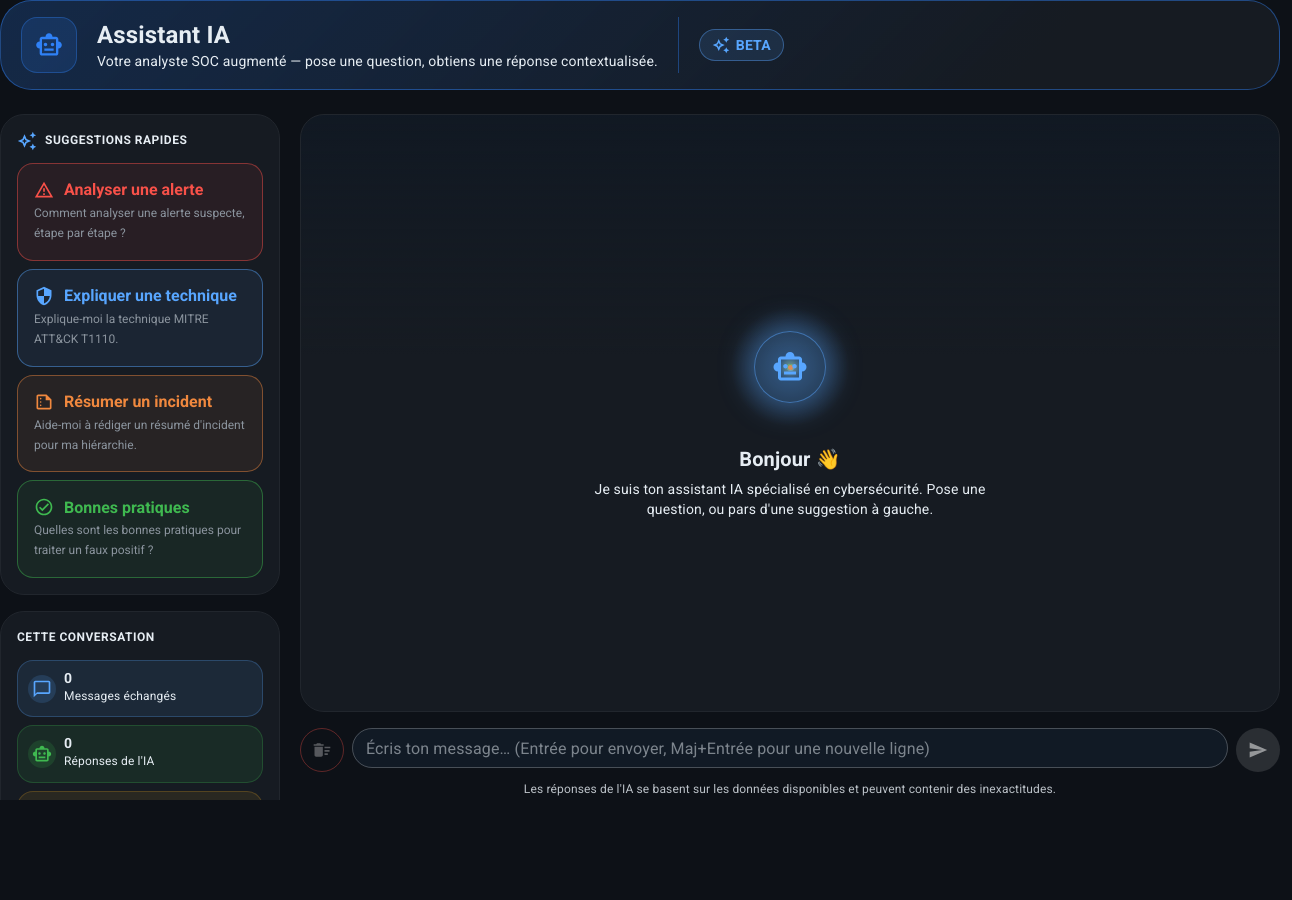
AssistantPage › sends a message, shows the user bubble then the assistant reply
The width and height of the screenshot is (1292, 900).
Replace the text in the text box with placeholder "Écris ton message" with "Bonjour" at {"x": 790, "y": 748}, box [366, 737, 1214, 760]
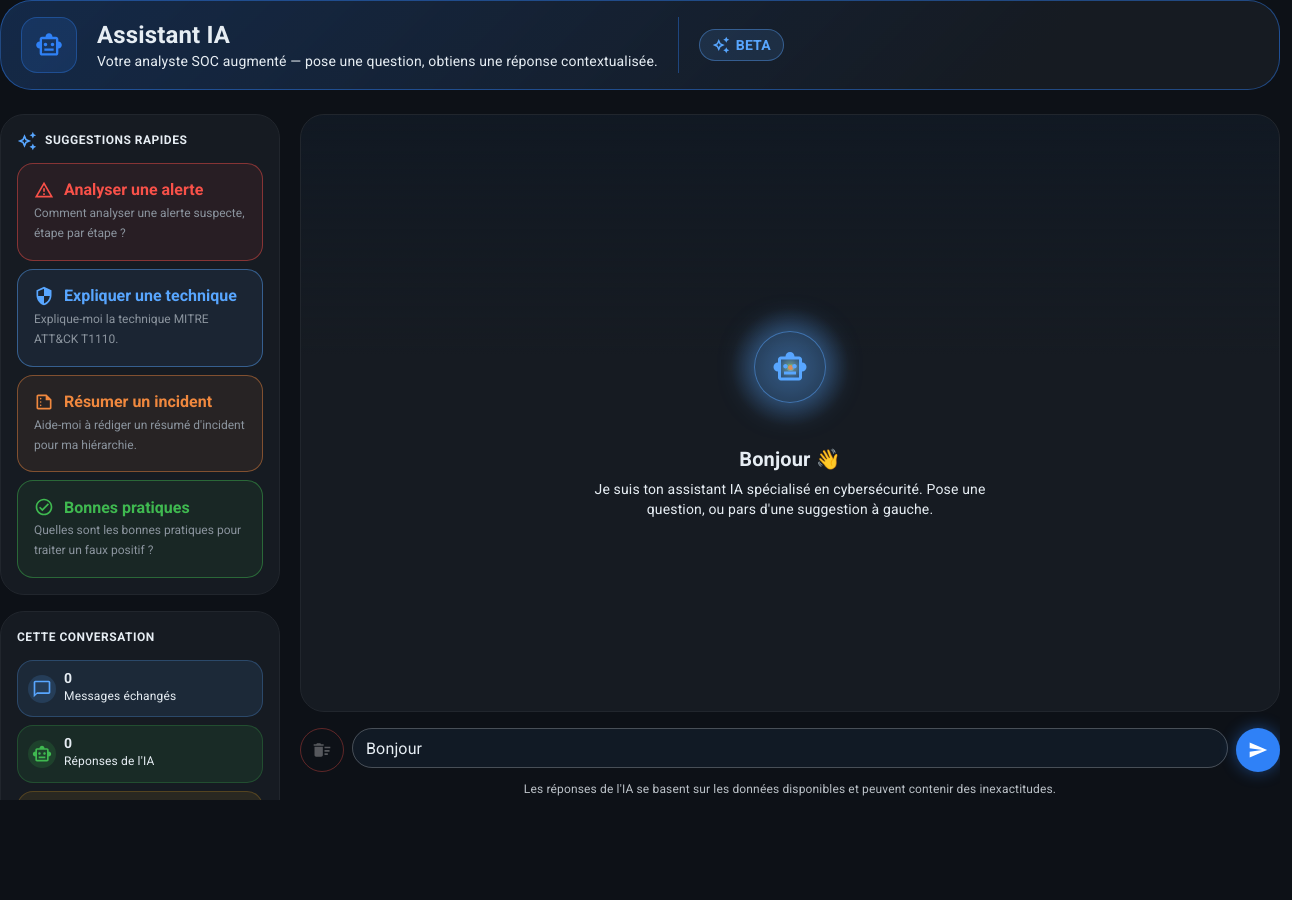
Click the button named "Envoyer" at {"x": 1258, "y": 750}, box [1236, 728, 1280, 772]
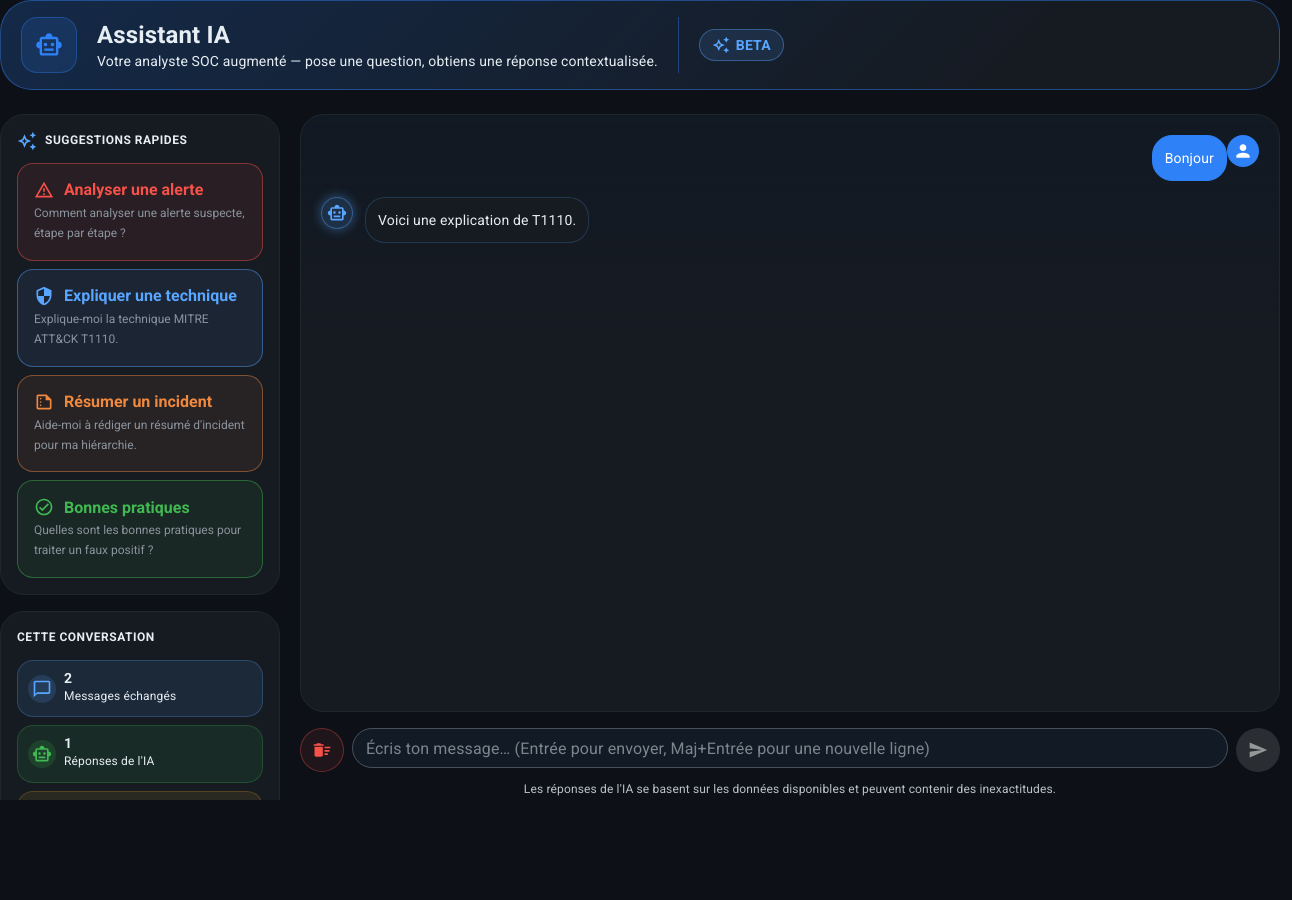
Check: the text "Bonjour" is shown, box [1165, 148, 1214, 168]
Check: the text "Voici une explication de T1110." is shown, box [378, 210, 576, 230]
